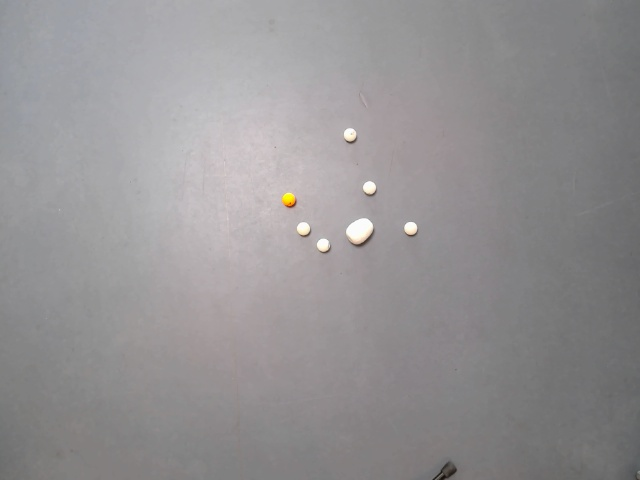egg: (343, 217, 375, 246)
orange: (281, 192, 296, 207)
white: (362, 180, 376, 196), (342, 127, 356, 142), (403, 221, 418, 235), (316, 238, 330, 252), (297, 221, 310, 235)
